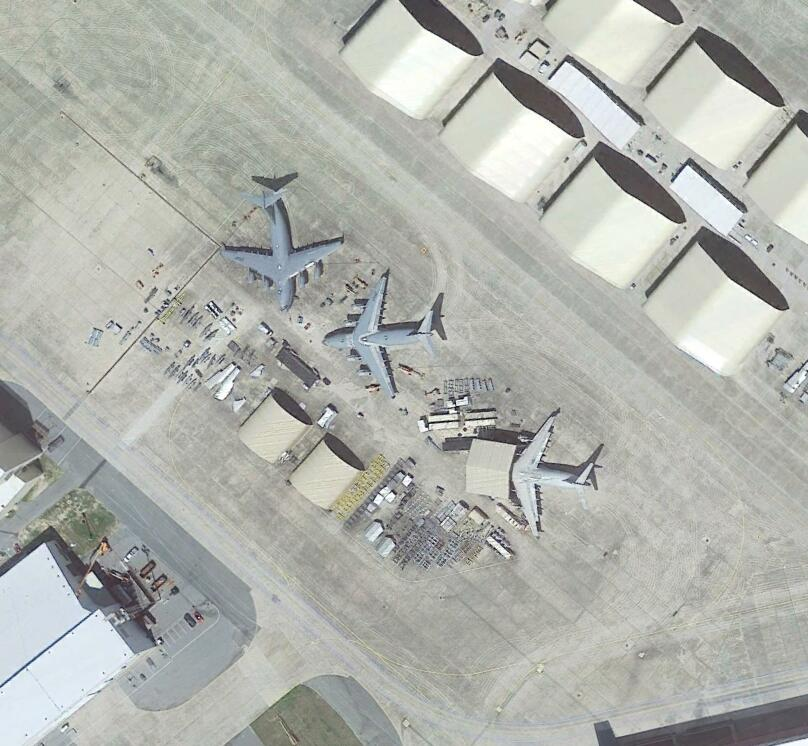A3: (322, 271, 442, 403), (221, 191, 346, 312)
